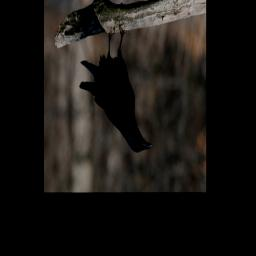Crow: (79, 23, 153, 155)
